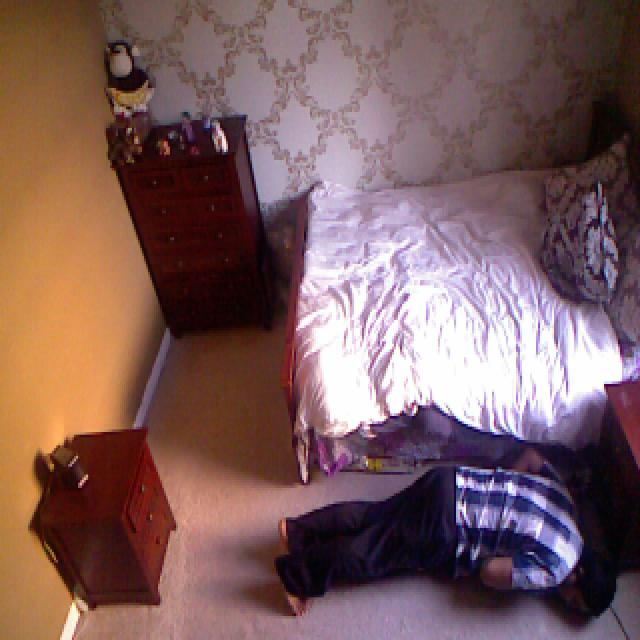lying: (270, 444, 616, 618)
